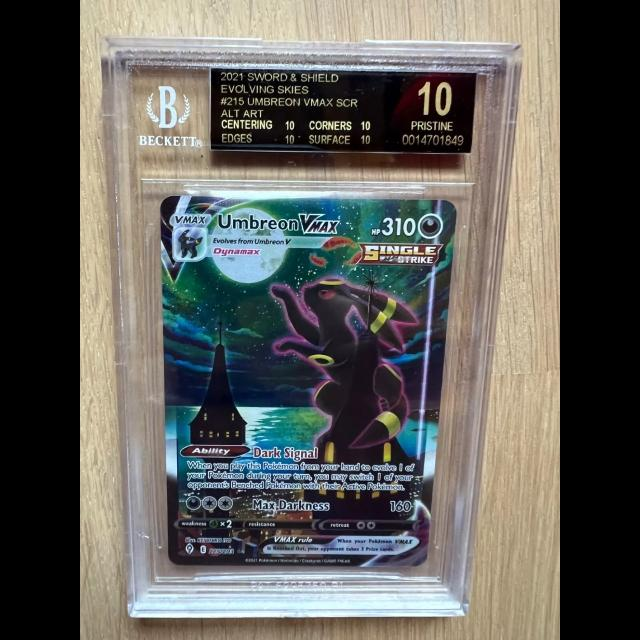bgs_label: (209, 67, 478, 154)
bgs_slab: (102, 36, 525, 618)
card: (160, 194, 458, 566)
